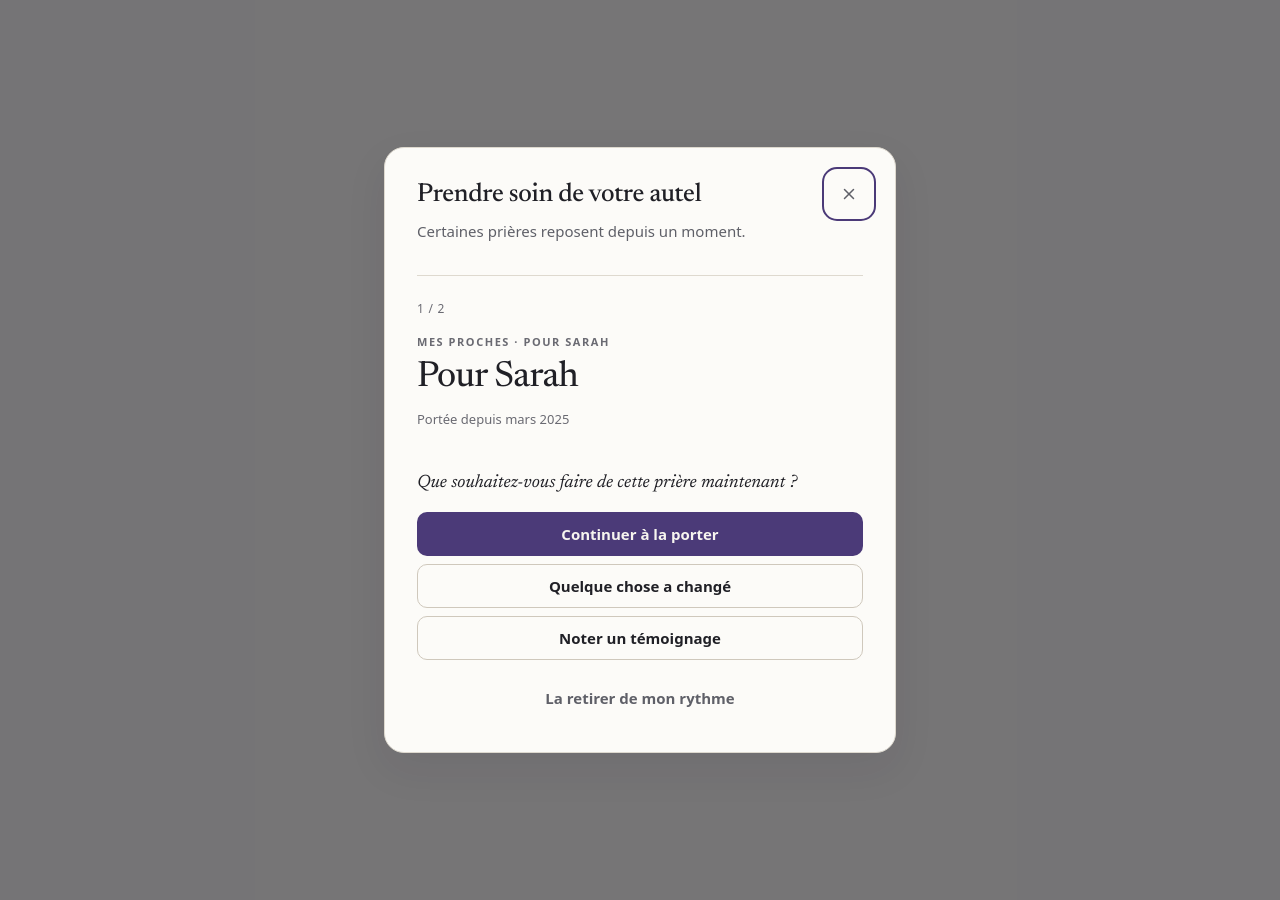
Test: TendAltar — one prayer at a time › releasing from the rhythm hands the prayer back to the caller and moves on
Click the button "La retirer de mon rythme".
click(640, 698)  # box [532,676,748,720]
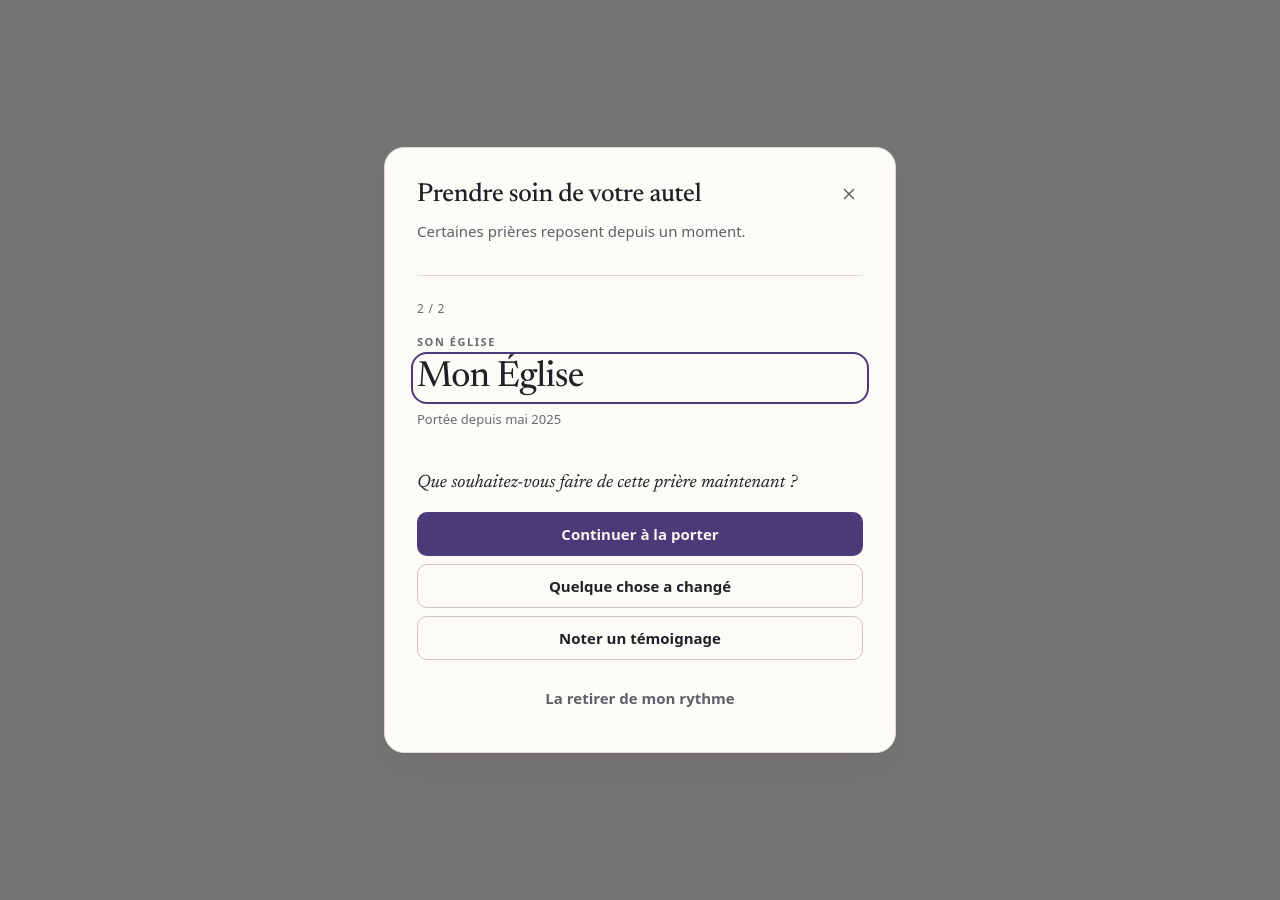
Expected: the heading "Mon Église" is shown, [417,360,584,396]
